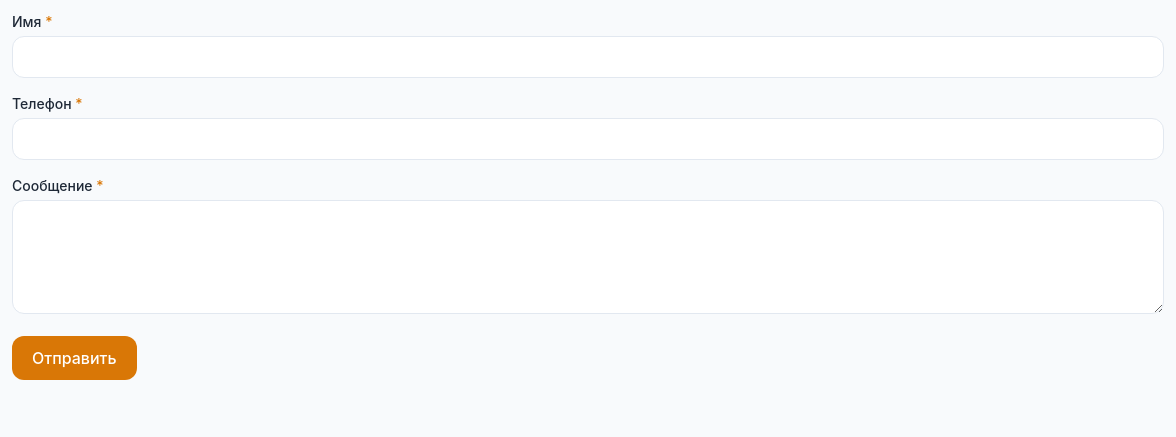
Test: ContactForm › отправляет валидный payload и показывает success
The image size is (1176, 437).
Type "Иван" into the field labelled "Имя *" at (588, 57), box [12,36,1164,78]
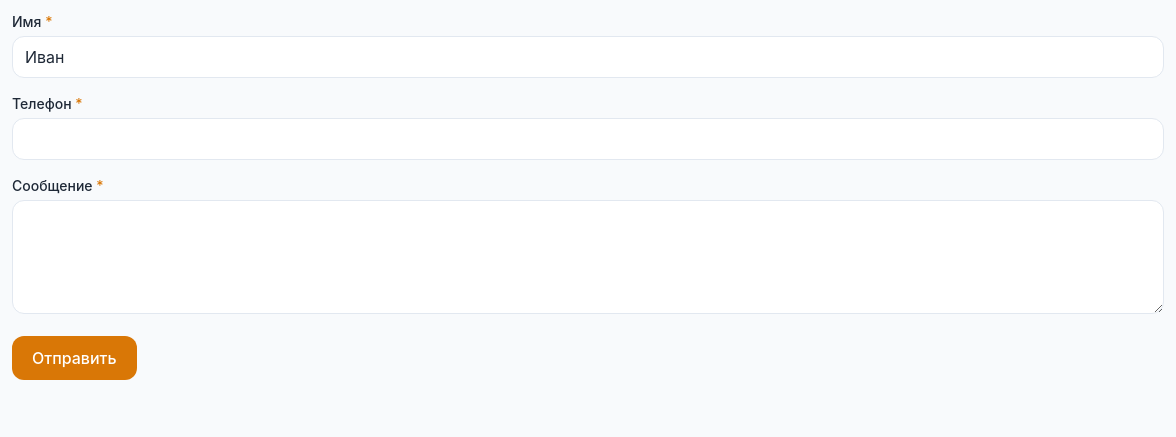
Type "+79991234567" into the field labelled "Телефон *" at (588, 139), box [12,118,1164,160]
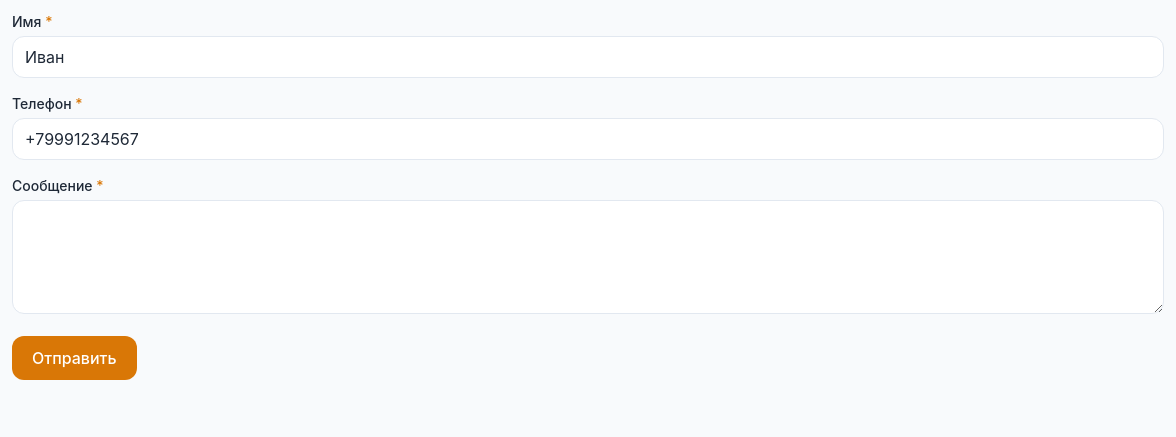
Type "Здравствуйте, нужен расчёт фасада дома." into the text box labelled "Сообщение *" at (588, 257), box [12,200,1164,314]
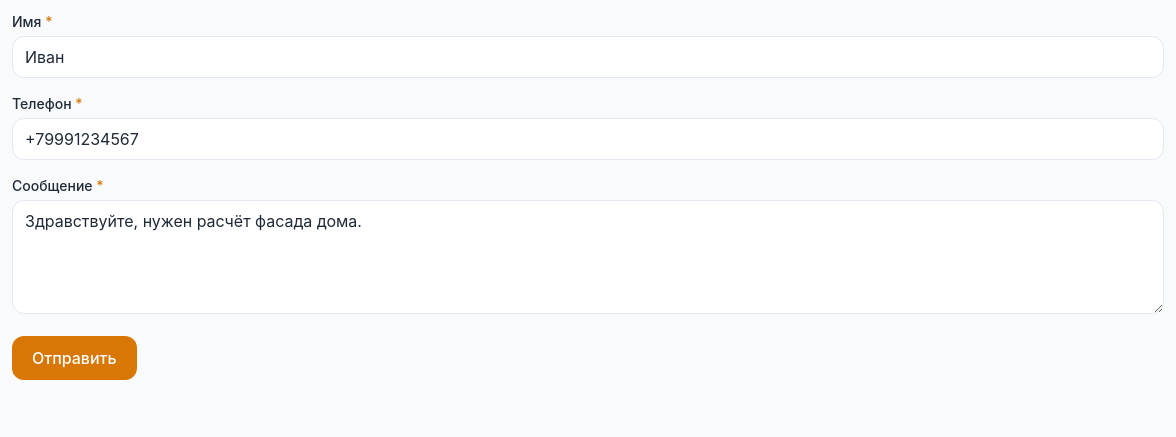
Submit the form
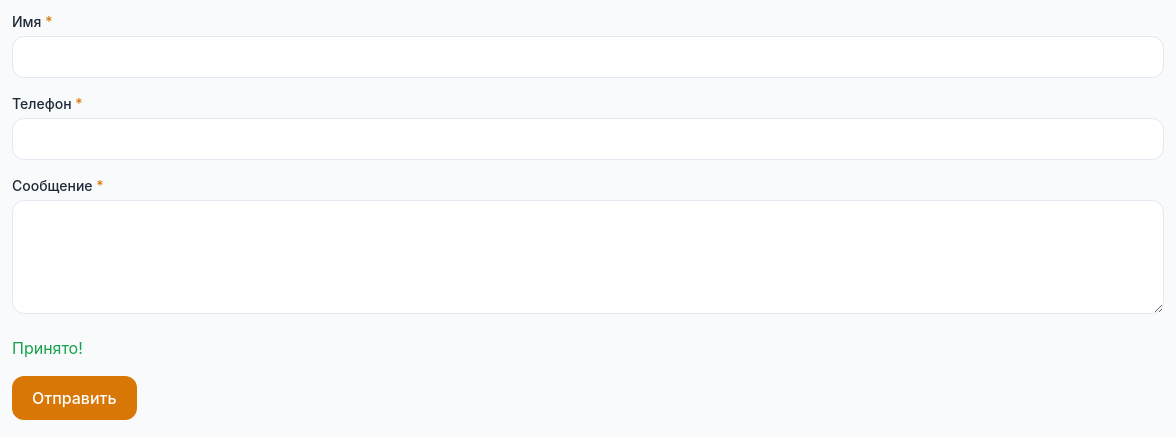
Expected: the form shows "Принято!", [12,338,83,358]
